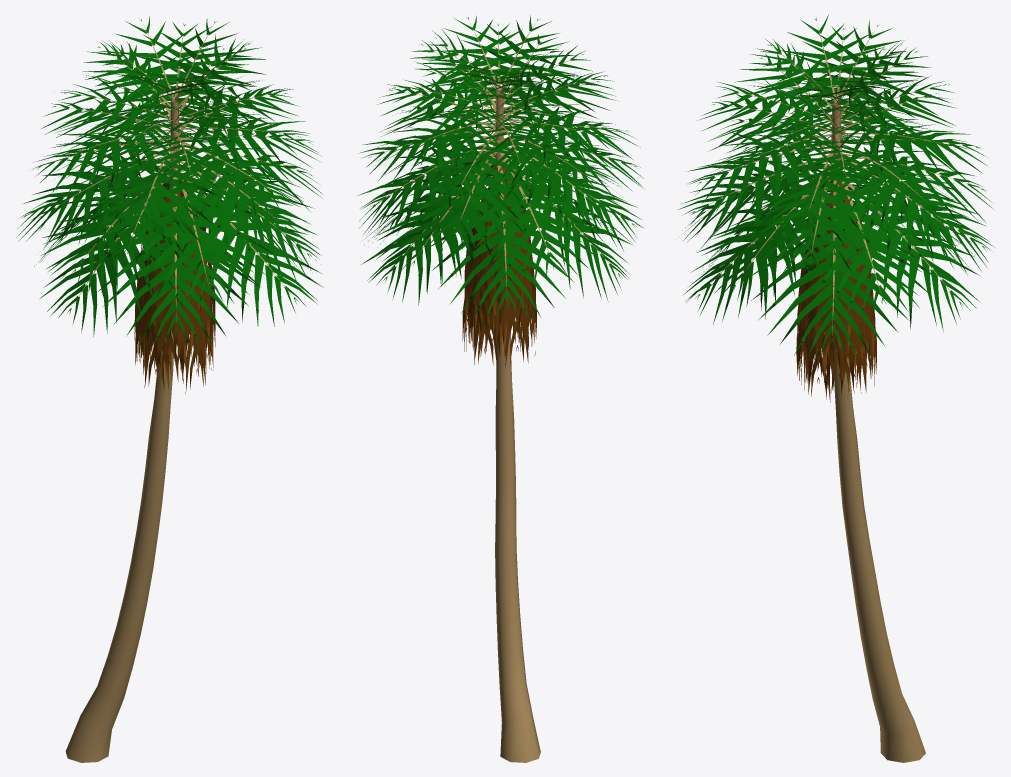
Rendered from tree2.FBX.
The picture shows the model from 3 angles, left to right: view 1: azimuth 30°, elevation 25°; view 2: azimuth 150°, elevation 25°; view 3: azimuth 270°, elevation 25°; orthographic projection. The views are drawn at different scales.
Parts seen in each view (by area): view 1: Foliage002; view 2: Foliage002; view 3: Foliage002.
Boxes of the visible parts, box(x1,y1,x2,y2) form: Foliage002: box(16, 16, 323, 762); Foliage002: box(357, 15, 644, 762); Foliage002: box(678, 14, 994, 762).
Size of the model in its own units: 31.16 by 79.6 by 31.58.
